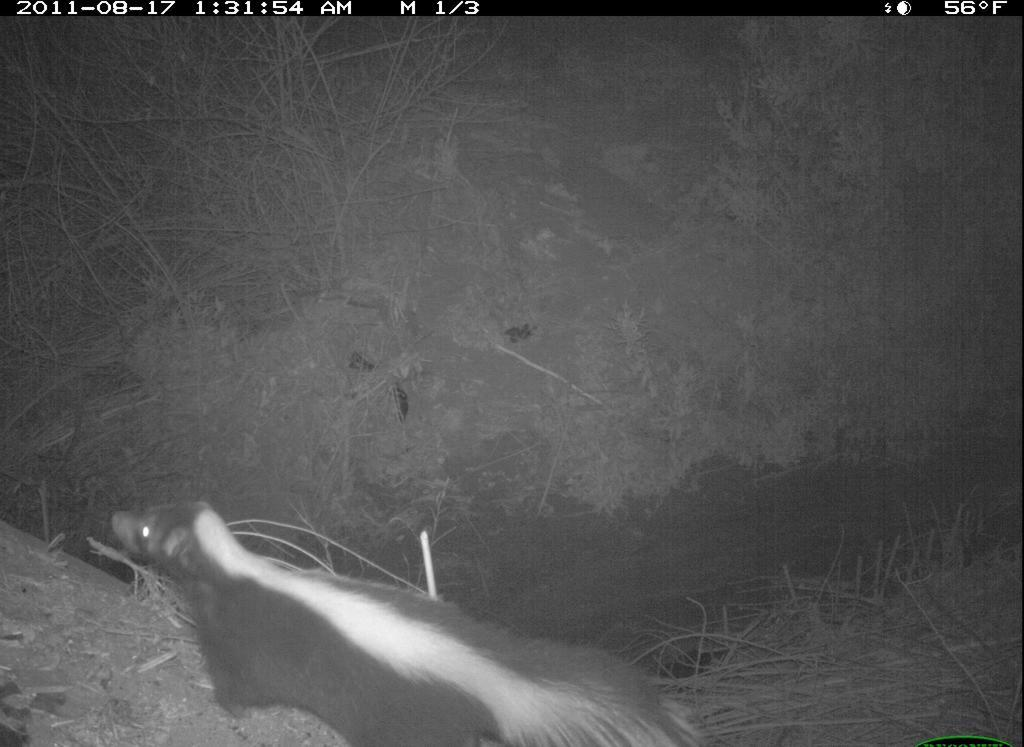skunk: (95, 488, 710, 747)
